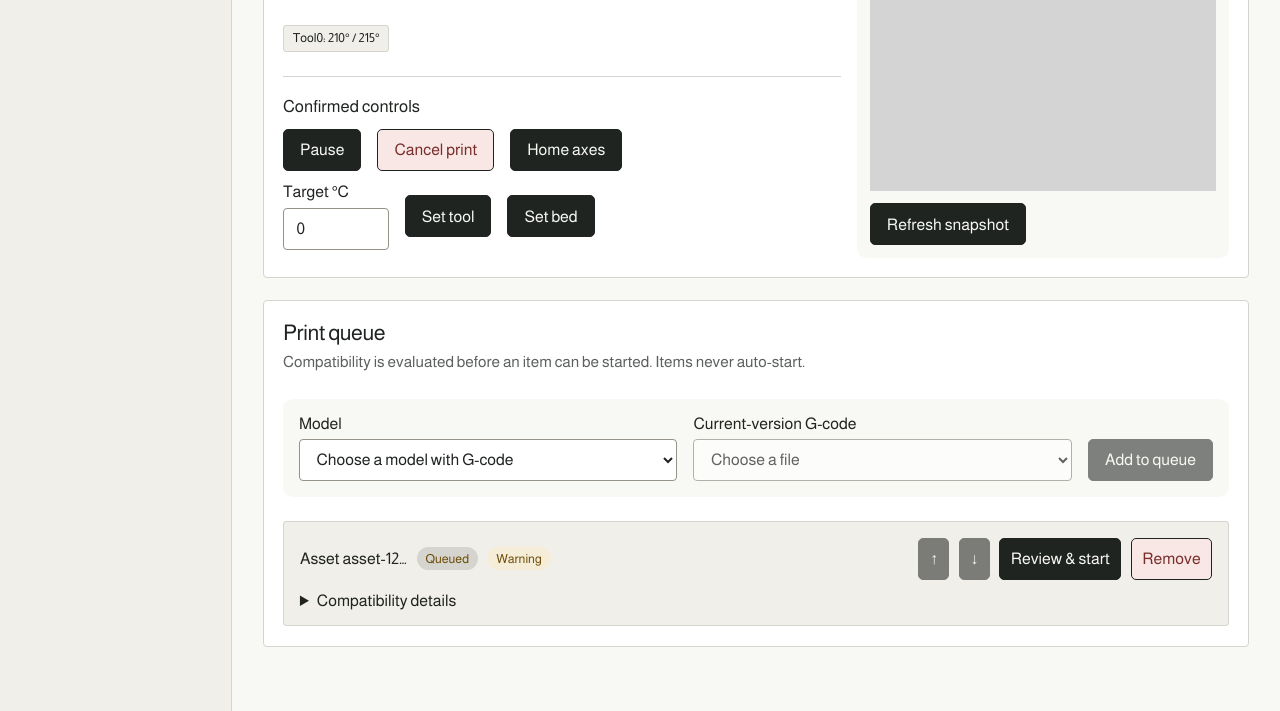
Scenario: printer workspace › marks stale facts, explains compatibility, and requires a start confirmation
This screenshot has width=1280, height=711.
(page scrolled)
Click the heading "Compatibility details" at (386, 601), box [317,592,456,610]
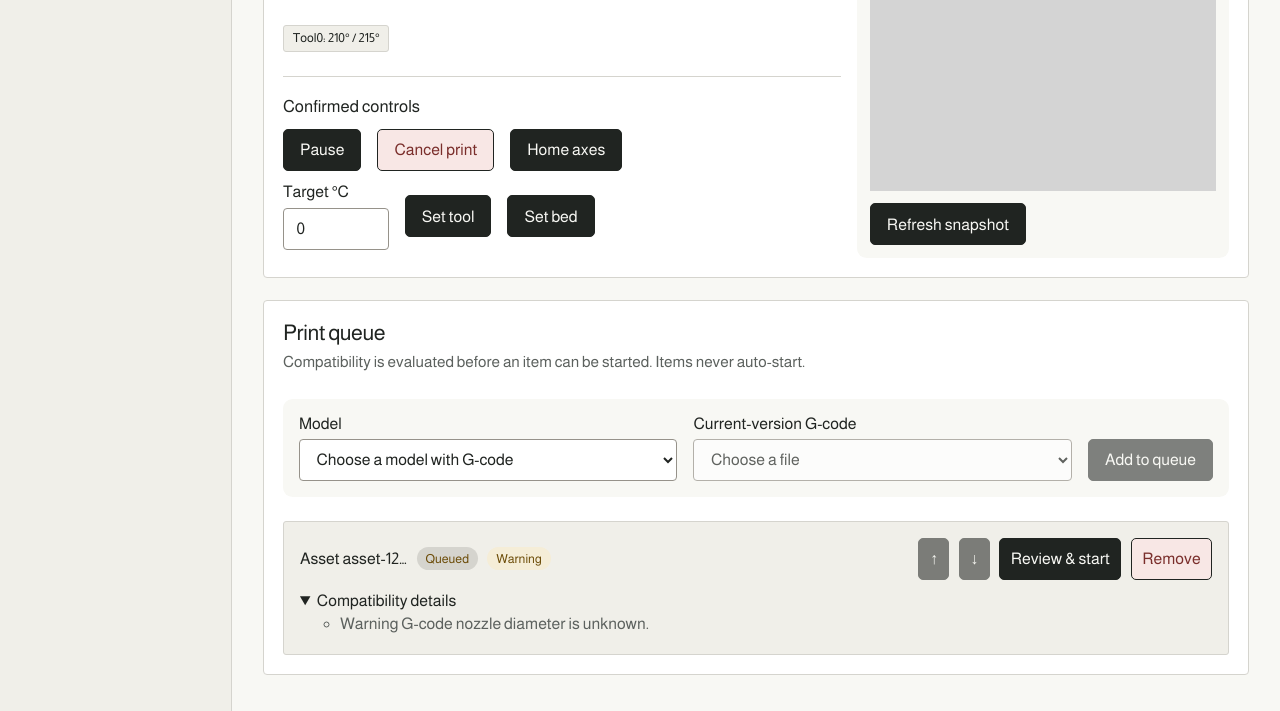
Expected: the list item "G-code nozzle diameter is unknown." is shown, [401,615,649,632]
Click the button "Review & start" at (1060, 559), box [999,538,1121,580]
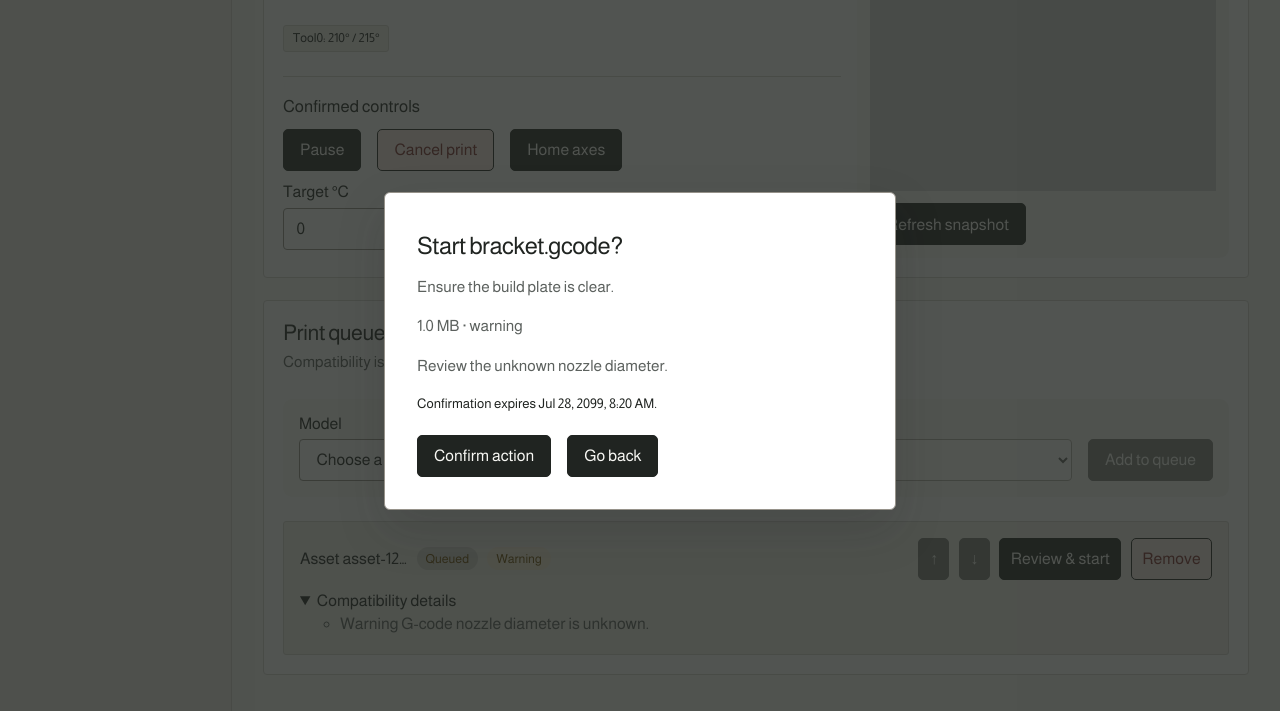
Expected: the dialog shows "Ensure the build plate is clear.", [417,278,614,295]
Expected: the button "Confirm action" is shown, [417,434,551,476]
